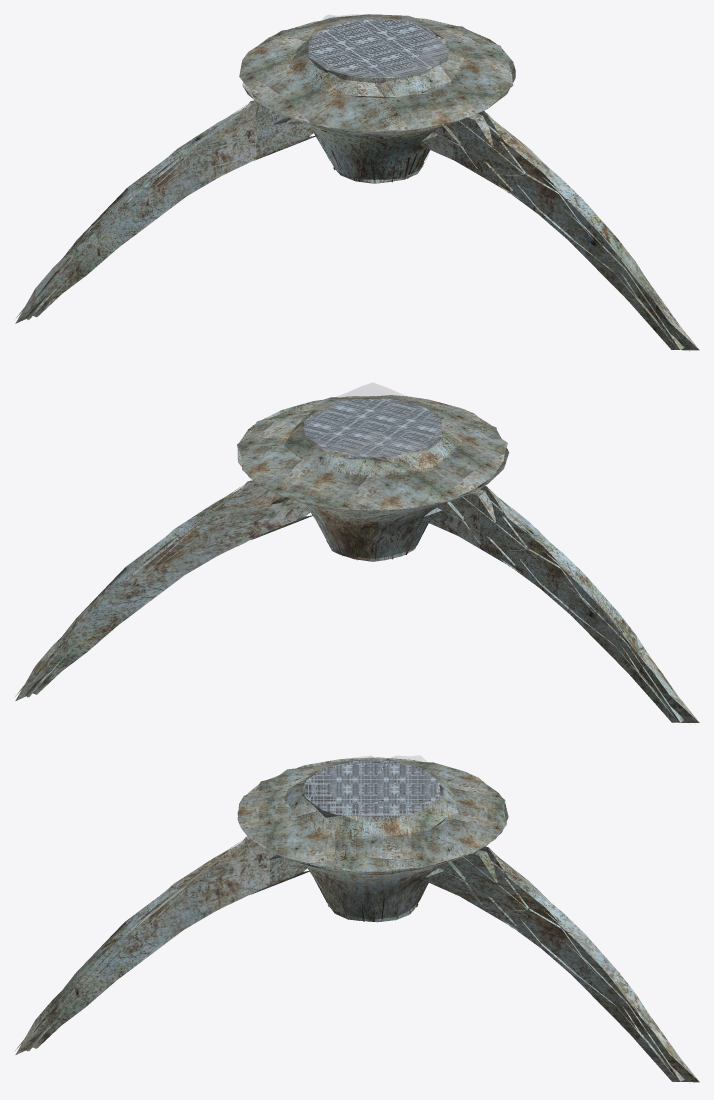
File: home_lod1.FBX
3 renders of one model, top to bottom at view 1: azimuth 30°, elevation 25°; view 2: azimuth 150°, elevation 25°; view 3: azimuth 270°, elevation 25°, orthographic.
Parts seen in each view (by area): view 1: upcirs, wing08, wing010, Cylinder001, Object, jgjkj5664; view 2: upcirs, wing011, wing08, Cylinder001, Object, jgjkj5664; view 3: upcirs, wing010, wing011, Cylinder001, Object, jgjkj5664.
Part boxes in pixels (x1,y1,x2,y2): upcirs: (239,14,513,131); wing08: (15,100,318,323); wing010: (420,111,699,351); Cylinder001: (308,19,448,77); Object: (242,18,515,183); jgjkj5664: (305,14,449,80); upcirs: (237,395,507,509); wing011: (15,480,314,700); wing08: (422,486,699,722); Cylinder001: (303,399,441,456); Object: (237,396,509,561); jgjkj5664: (302,383,444,459); upcirs: (237,758,506,871); wing010: (15,836,310,1054); wing011: (422,846,699,1082); Cylinder001: (304,761,439,817); Object: (237,757,508,922); jgjkj5664: (301,756,443,820).
Size of the model in its own units: 222 by 87.46 by 245.
11 materials, 3 textured.
